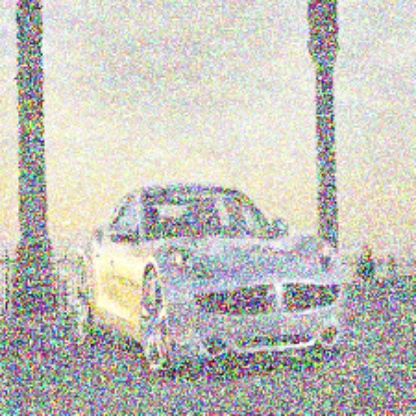Vehicle: (74, 182, 347, 377)
